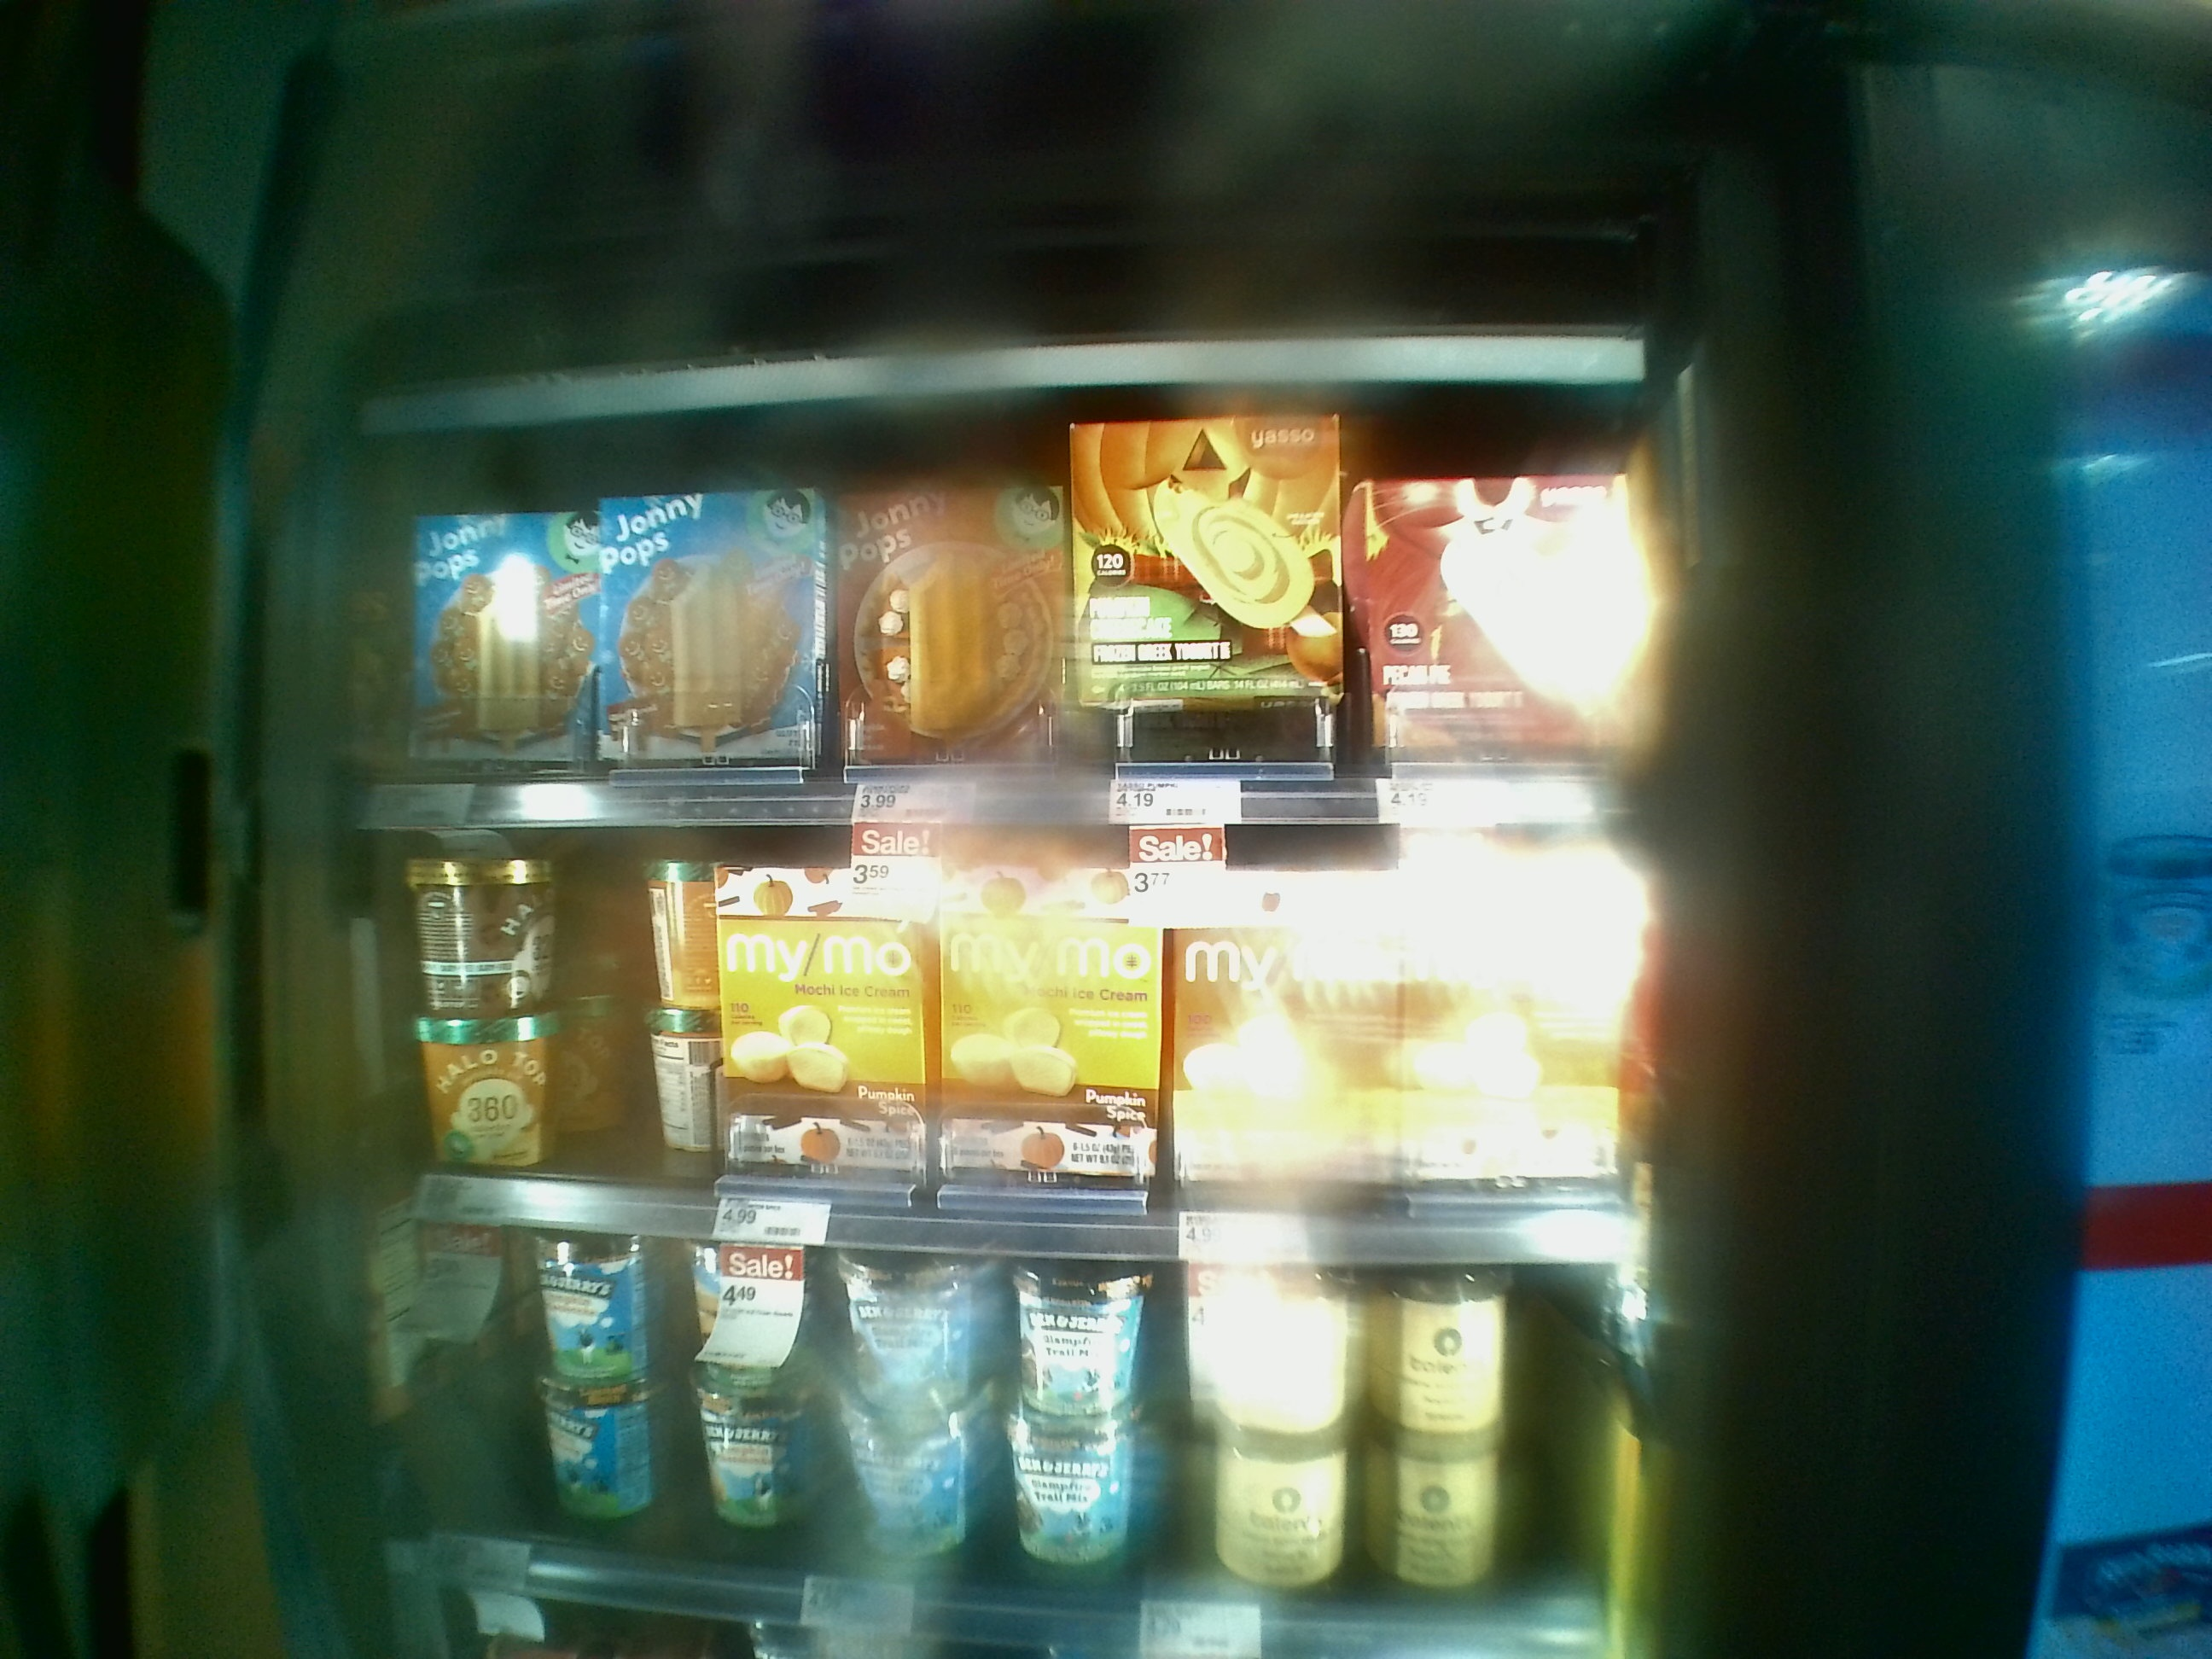shelf: (317, 803, 1672, 1267), (340, 404, 1695, 833)
